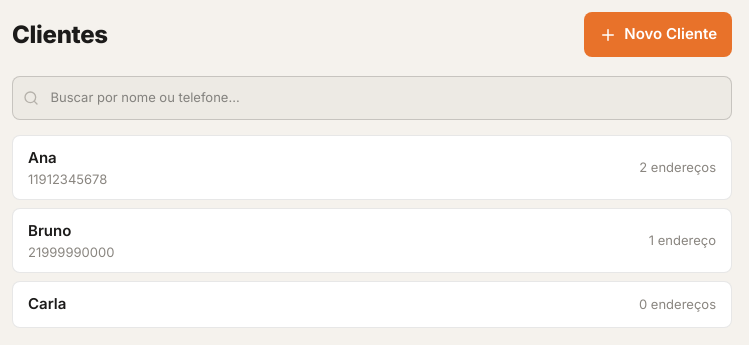
it: CustomersPage › filters out customers without a phone when searching by phone
This screenshot has width=749, height=345.
Check: the text "Carla" is shown, box [28,293,66,316]
Type "1191234" into the field named "Buscar clientes". click: [372, 98]
box: [12,76,732,120]
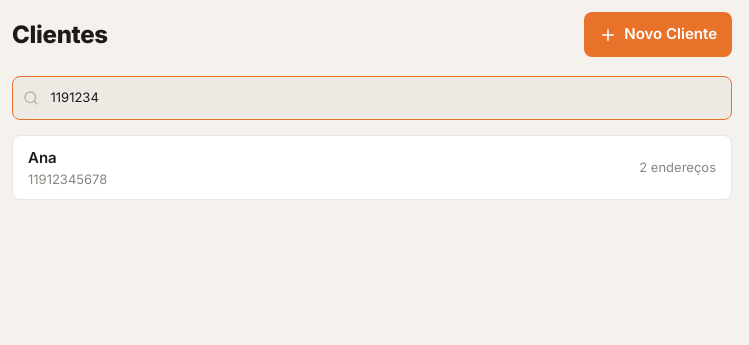
Check: the text "Ana" is shown, box [28,148,57,167]
Check: the button "Carla" is gone
